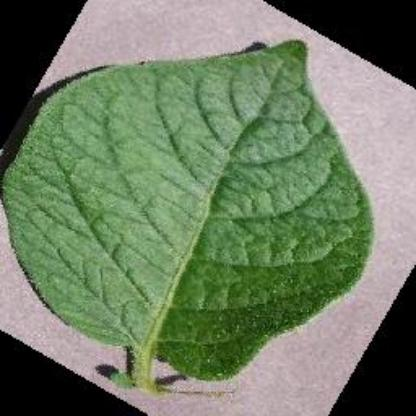Healthy-plant: (0, 29, 396, 392)
